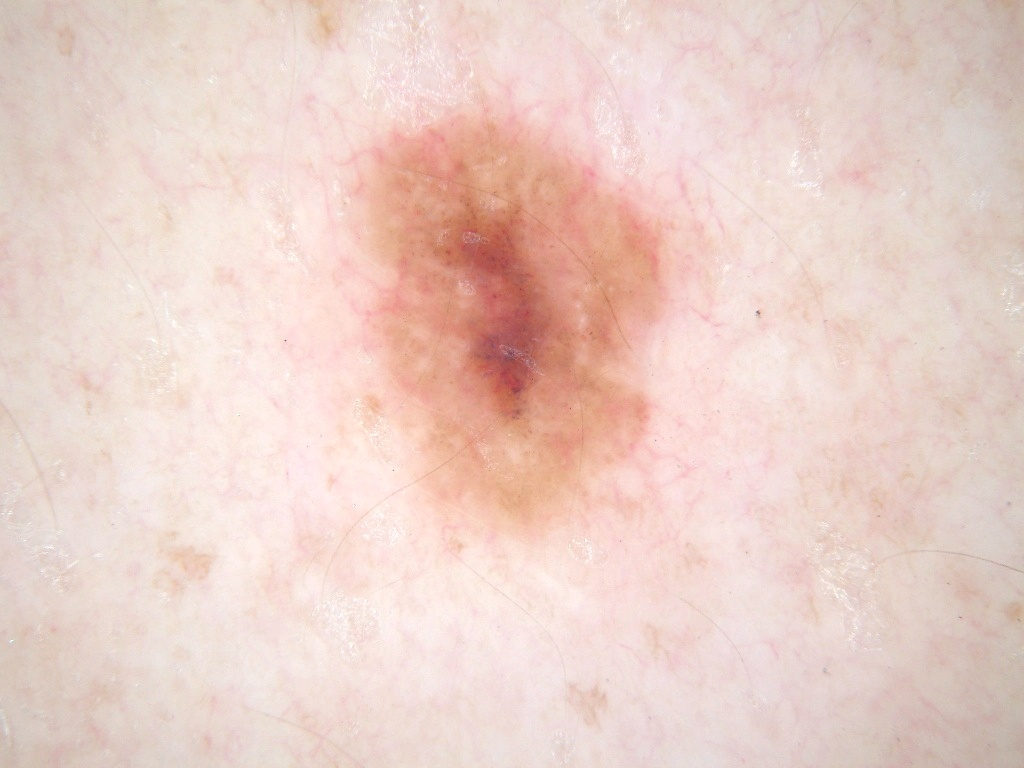Detected Lesion: (347, 112, 669, 541)
